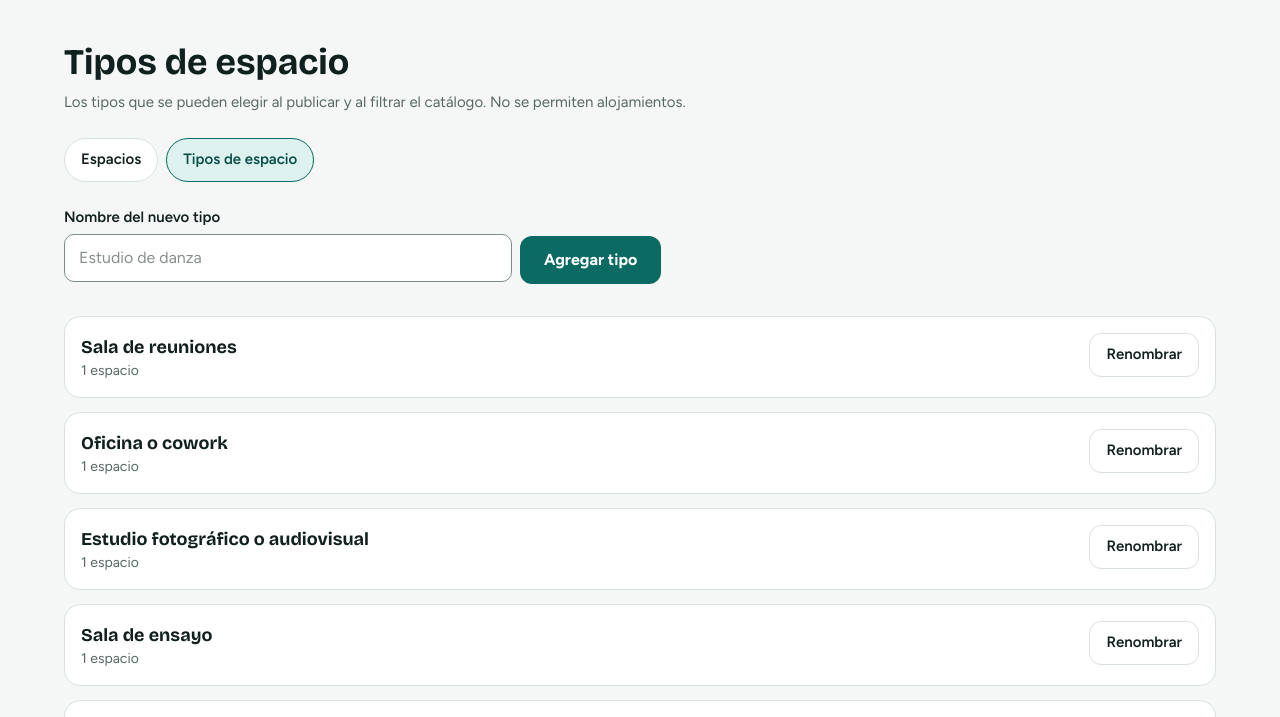
Test: AdminSpaceTypesPage (AD-02) › crear › un nombre repetido muestra el mensaje del servidor junto al campo, y no agrega nada
The width and height of the screenshot is (1280, 717).
Type "cancha" into the field labelled "Nombre del nuevo tipo" at [288, 258], box [64,234,512,282]
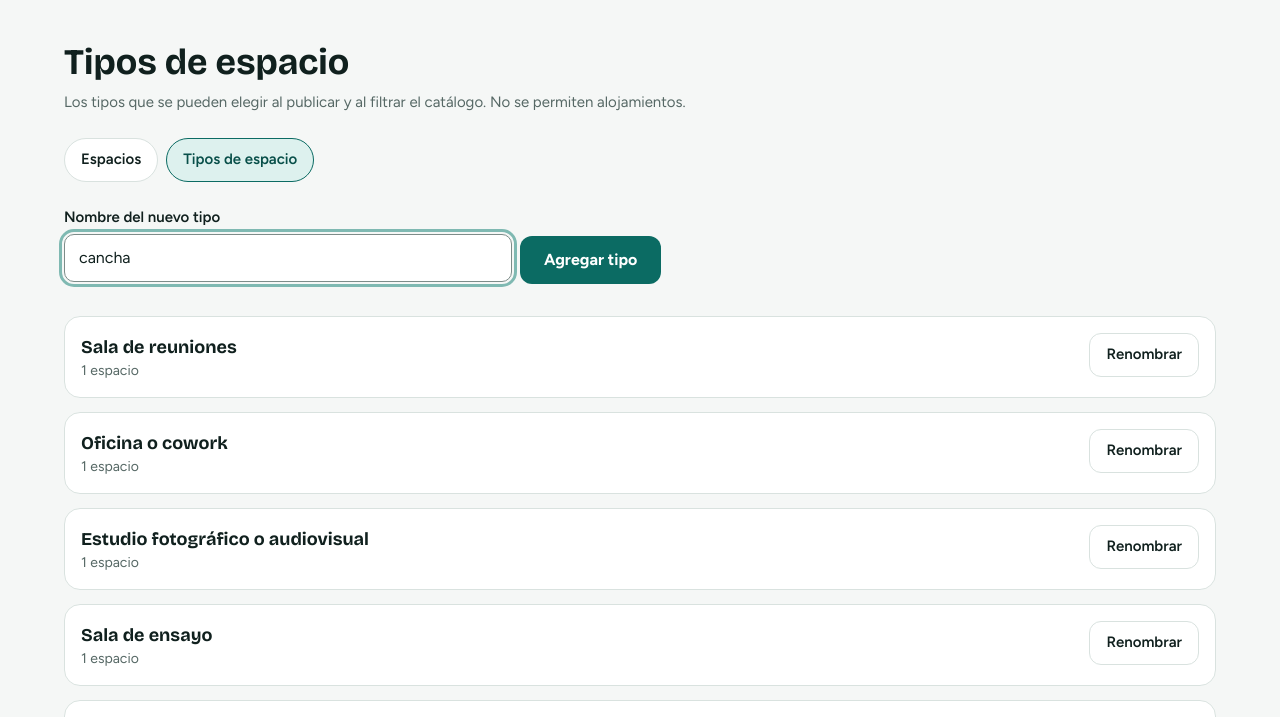
Click the button "Agregar tipo" at [591, 260], box [520,236,661,284]
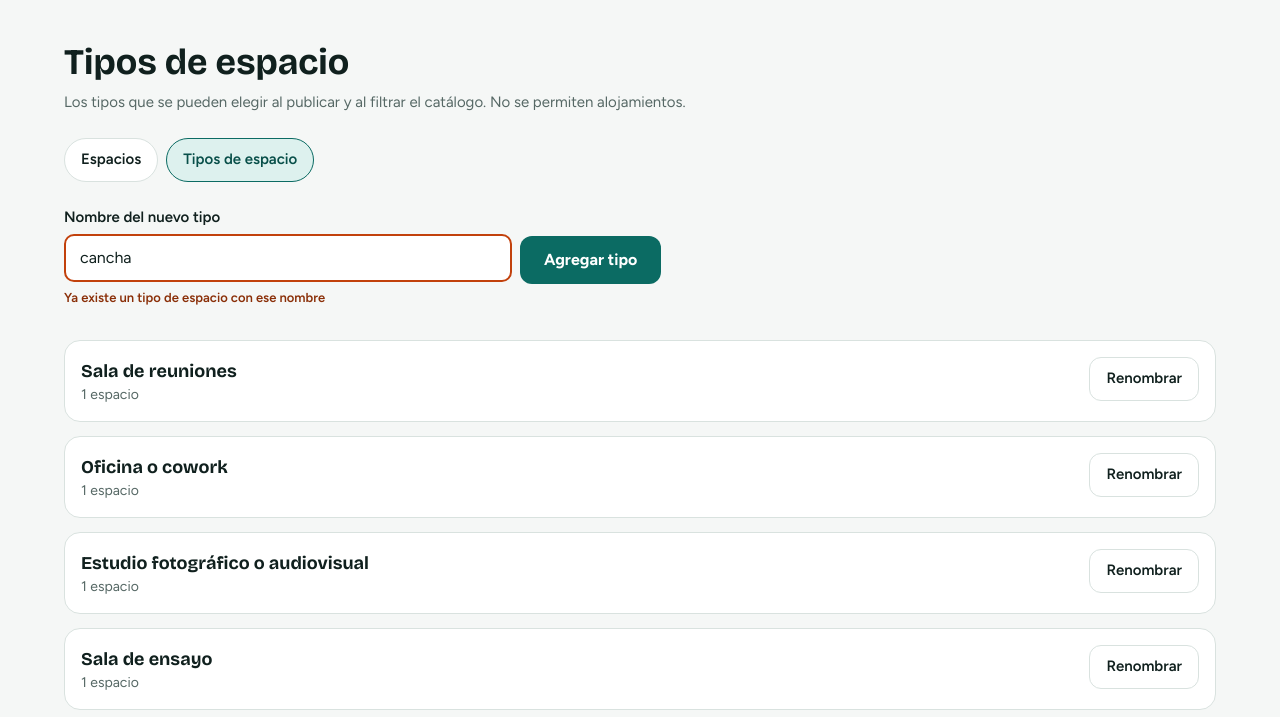
Result: the text "Ya existe un tipo de espacio con ese nombre" is shown at [64,290,325,305]
